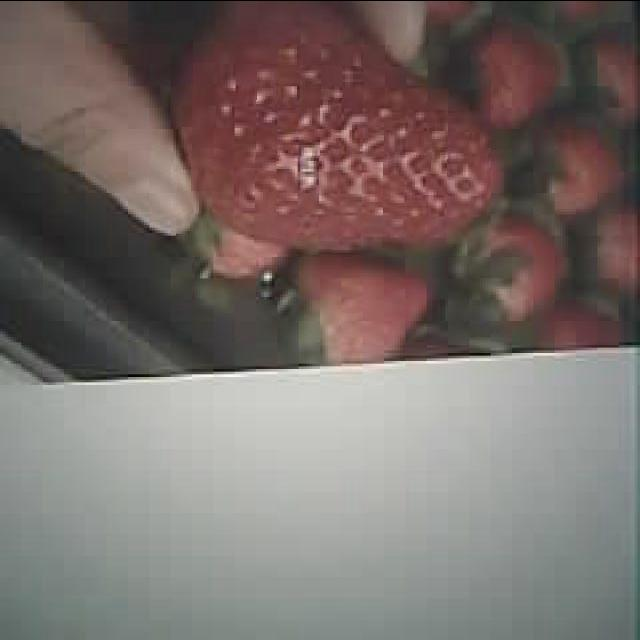strawberry: (177, 0, 491, 254)
